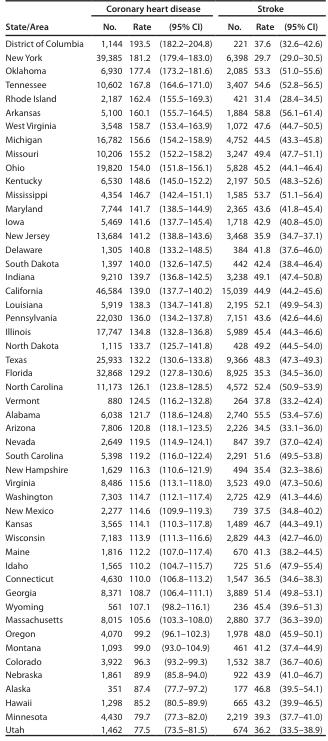table: (4, 4, 321, 734)
table column: (4, 4, 88, 734), (154, 4, 215, 734), (275, 4, 321, 734), (88, 4, 124, 734), (215, 4, 250, 734), (124, 4, 154, 734), (250, 4, 275, 734)
table column header: (4, 4, 321, 34)
table row: (4, 17, 321, 34), (4, 34, 321, 50), (4, 50, 321, 64), (4, 77, 321, 91), (4, 91, 321, 105), (4, 118, 321, 132), (4, 132, 321, 146), (4, 146, 321, 160), (4, 173, 321, 187), (4, 187, 321, 201), (4, 201, 321, 215), (4, 228, 321, 242), (4, 242, 321, 256), (4, 269, 321, 283), (4, 283, 321, 297), (4, 297, 321, 311), (4, 324, 321, 338), (4, 338, 321, 352), (4, 352, 321, 366), (4, 379, 321, 393), (4, 393, 321, 407), (4, 420, 321, 434), (4, 434, 321, 448), (4, 448, 321, 462), (4, 475, 321, 489), (4, 489, 321, 503), (4, 503, 321, 517), (4, 530, 321, 544), (4, 544, 321, 558), (4, 571, 321, 585), (4, 585, 321, 599), (4, 599, 321, 613), (4, 626, 321, 640), (4, 640, 321, 654), (4, 654, 321, 668), (4, 681, 321, 695), (4, 695, 321, 709), (4, 4, 321, 17), (4, 64, 321, 77), (4, 105, 321, 118), (4, 160, 321, 173), (4, 215, 321, 228), (4, 256, 321, 269), (4, 311, 321, 324), (4, 366, 321, 379), (4, 407, 321, 420), (4, 462, 321, 475), (4, 517, 321, 530), (4, 558, 321, 571), (4, 613, 321, 626), (4, 668, 321, 681), (4, 709, 321, 722), (4, 722, 321, 734)
table spanning cell: (4, 4, 88, 34), (88, 4, 215, 17), (215, 4, 321, 17)
